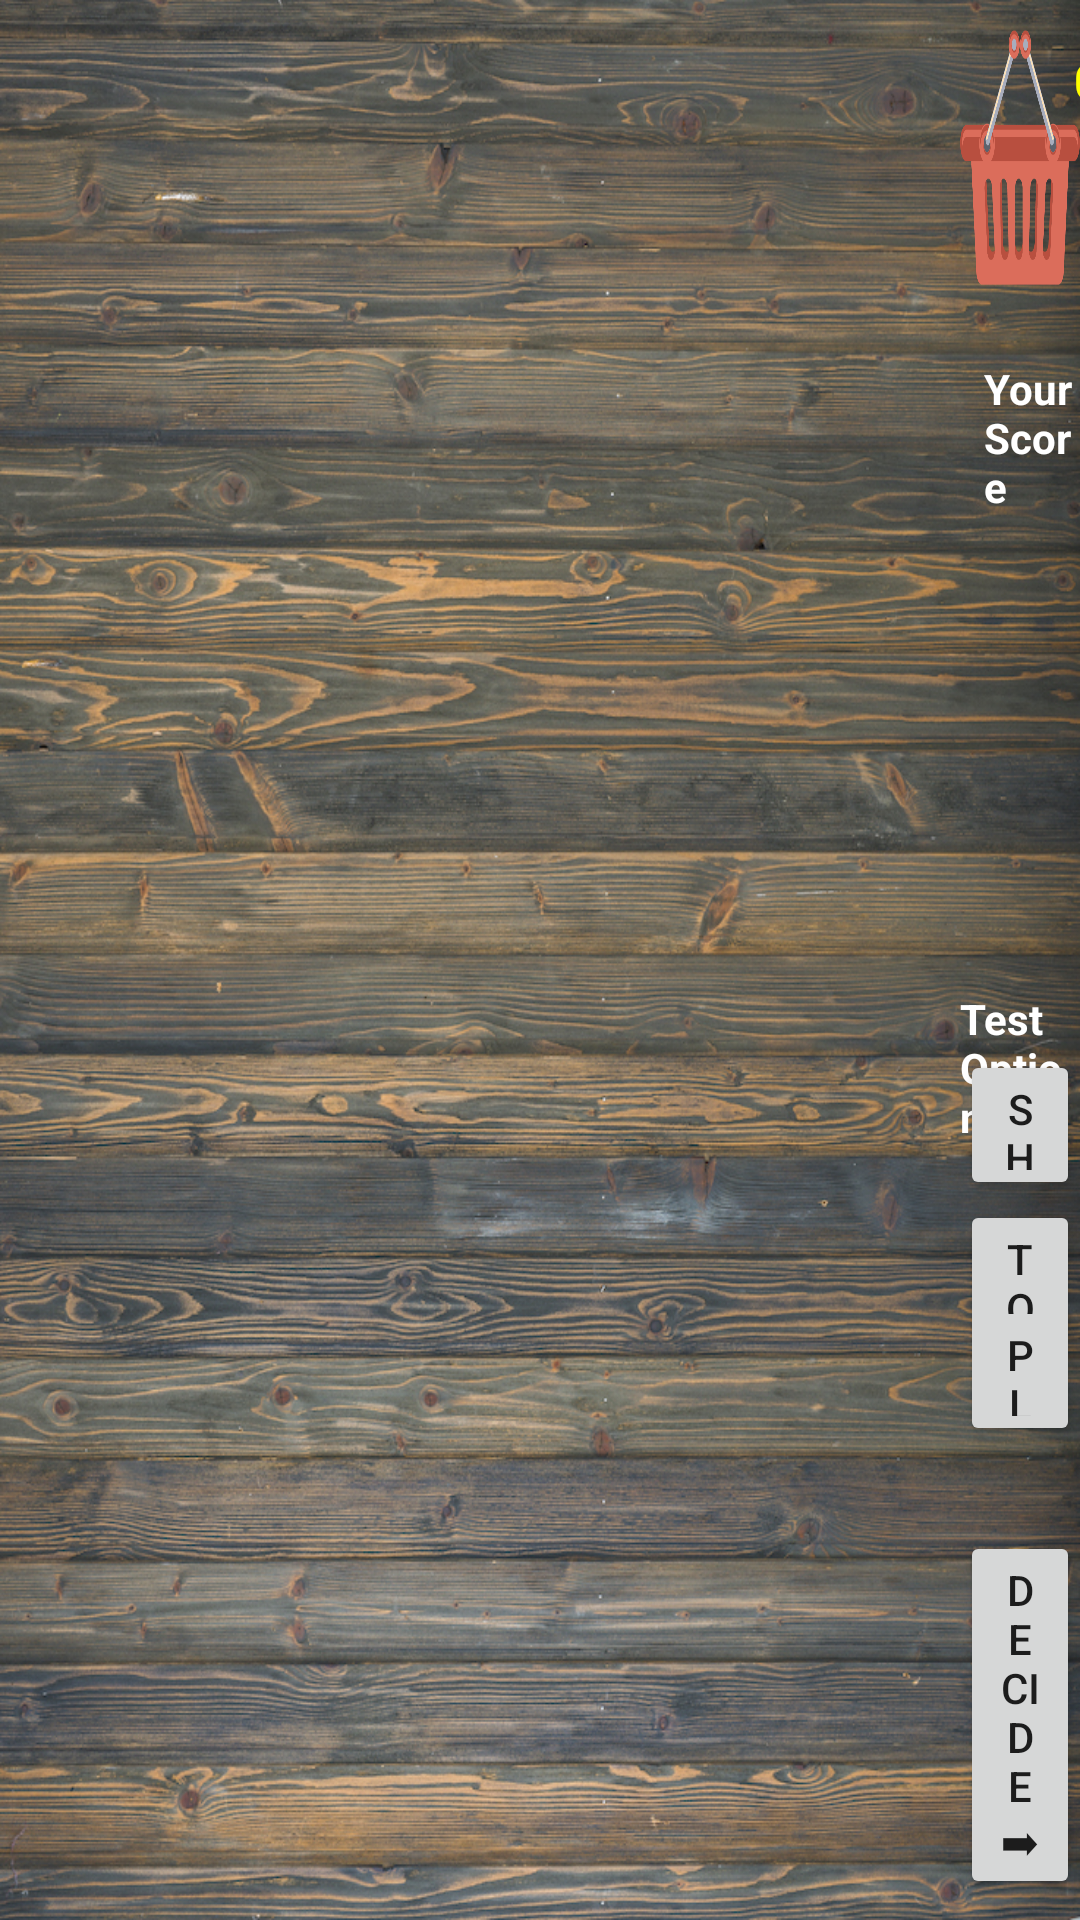

Locate icon controls on the screen. Image size 1080 x 1920, boxes as [x1=x1, y1=y1, x2=x2, y2=y2].
basket: [x1=960, y1=30, x2=1080, y2=285]
